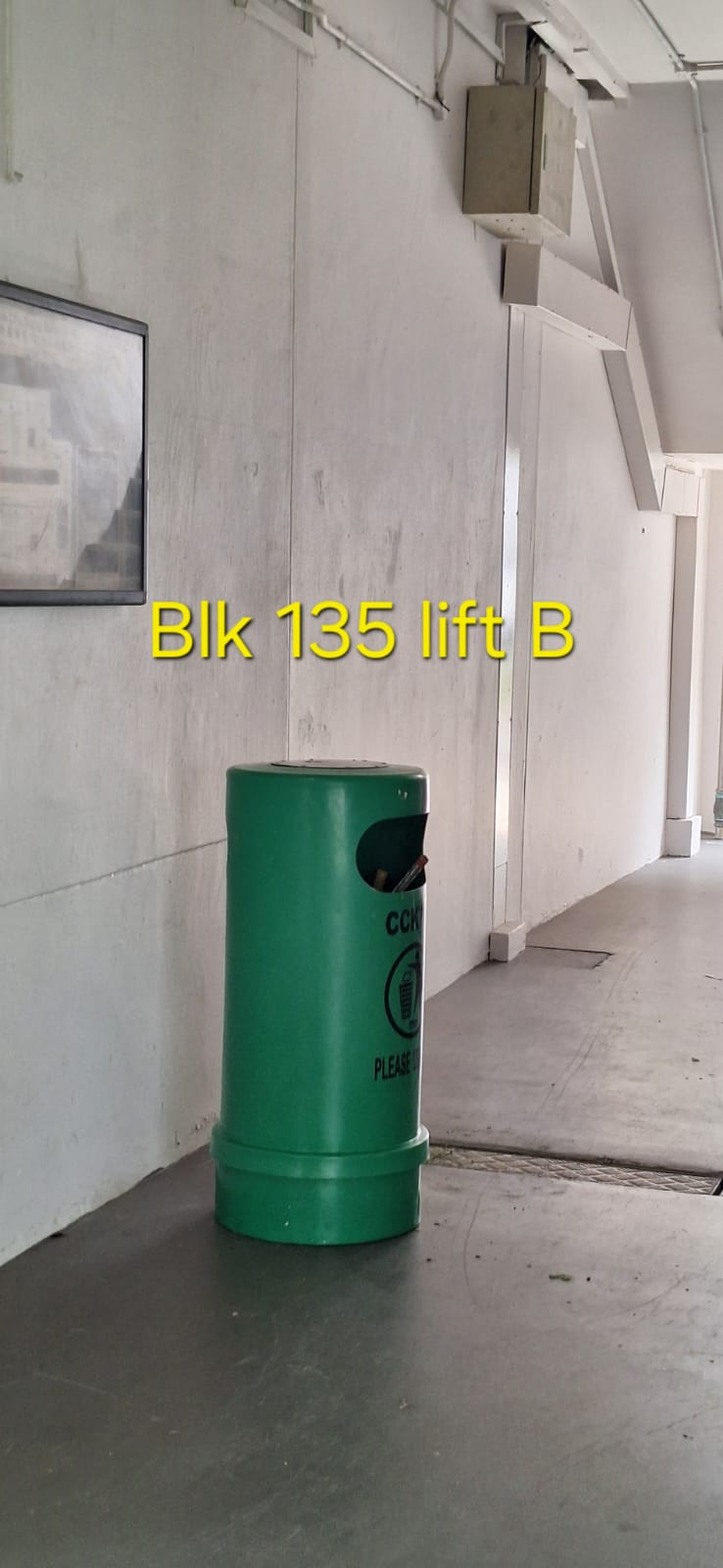bin_empty: (211, 762, 428, 1245)
